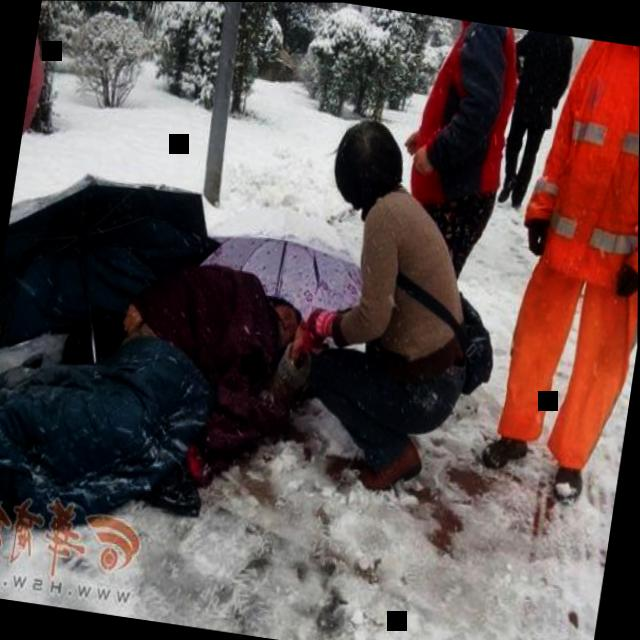Fall-Detected: (0, 217, 339, 590)
